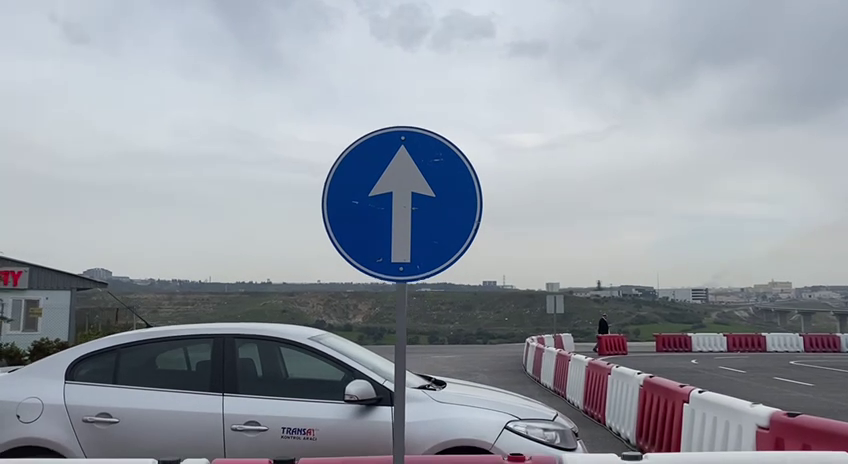forward: (317, 121, 485, 287)
